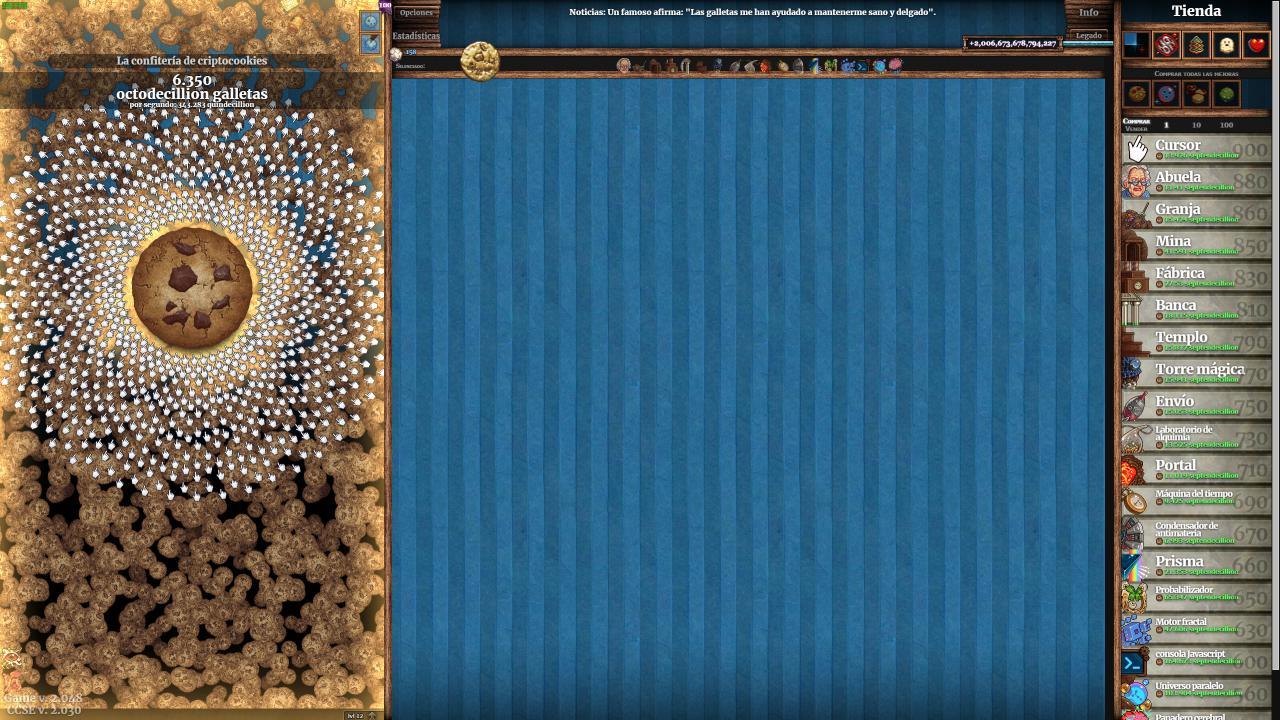GoldenCookie: (460, 40, 502, 84)
